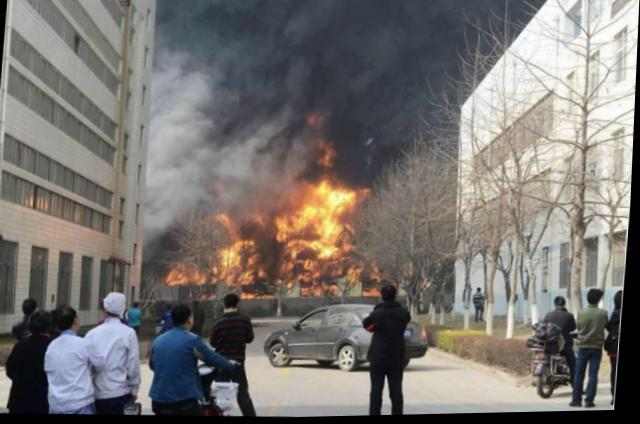fire: (315, 181, 363, 213), (218, 241, 247, 282), (282, 205, 315, 237), (309, 259, 348, 284), (318, 213, 347, 245), (320, 138, 341, 169), (243, 252, 262, 285), (349, 263, 371, 288), (287, 239, 316, 257), (170, 267, 192, 287), (318, 243, 343, 260), (281, 260, 298, 284), (191, 269, 212, 287)
